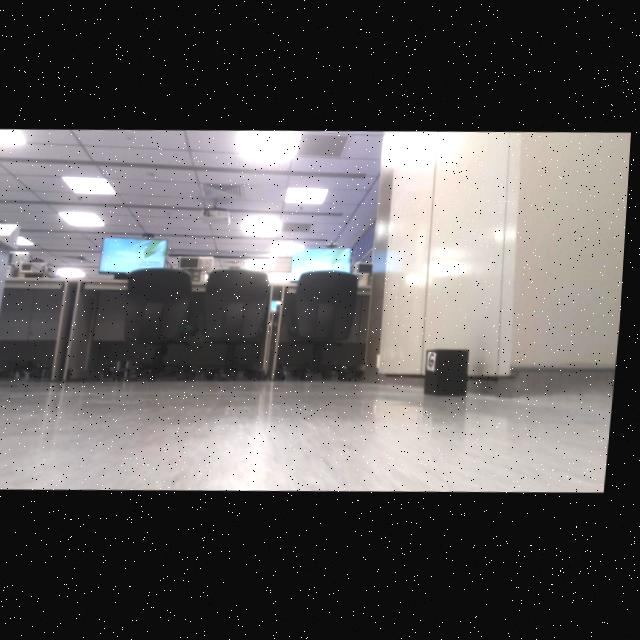G: (433, 357, 438, 370)
